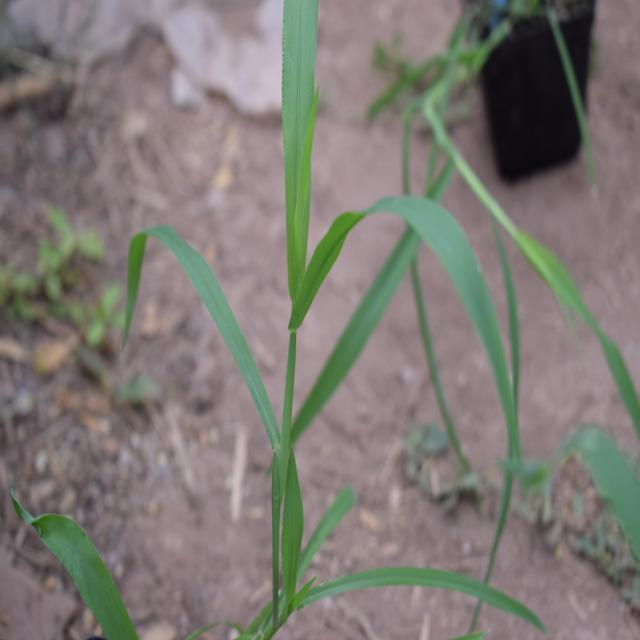crabgrass: (160, 12, 521, 620)
